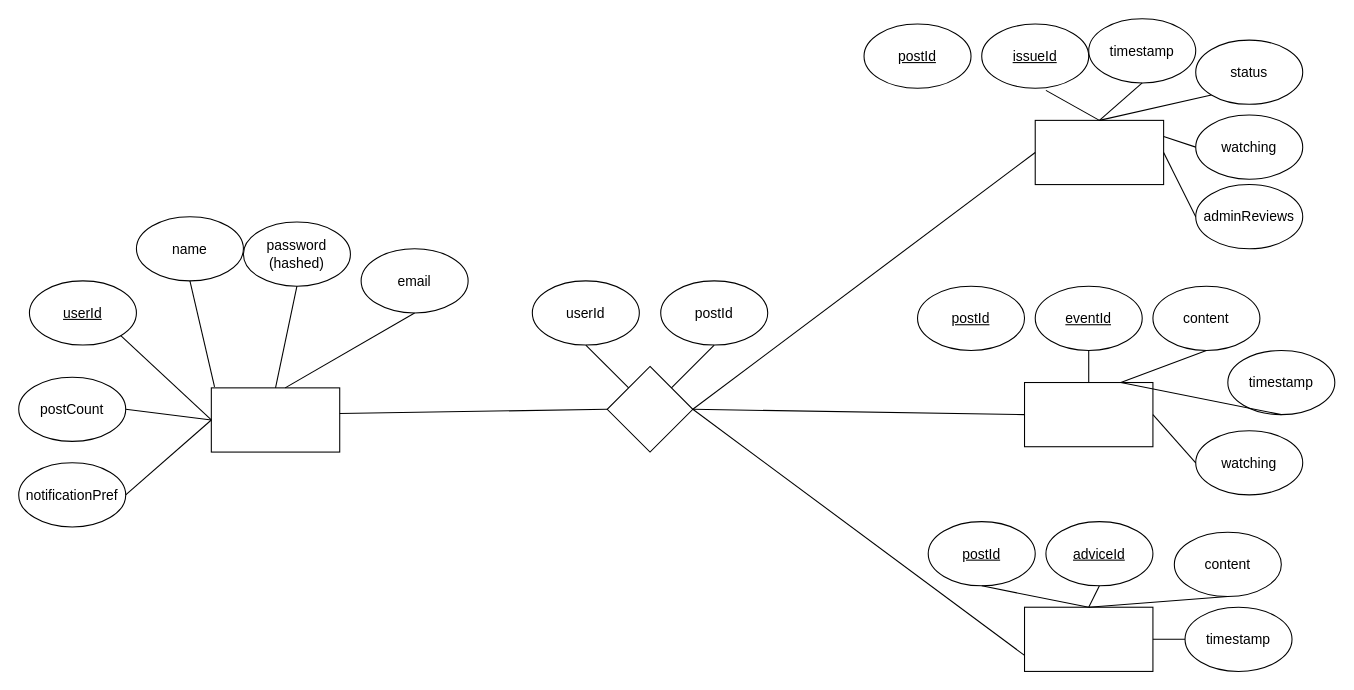
Some shapes in this 1354 by 690 pixel diagram are drawn without their labels. The box of each missing label's shape, as (x1, y1, x2, y2) in pixels:
advice: (1023, 606, 1153, 671)
event: (1023, 381, 1153, 447)
issue: (1034, 119, 1164, 185)
posts: (606, 365, 693, 452)
user: (210, 387, 340, 452)
